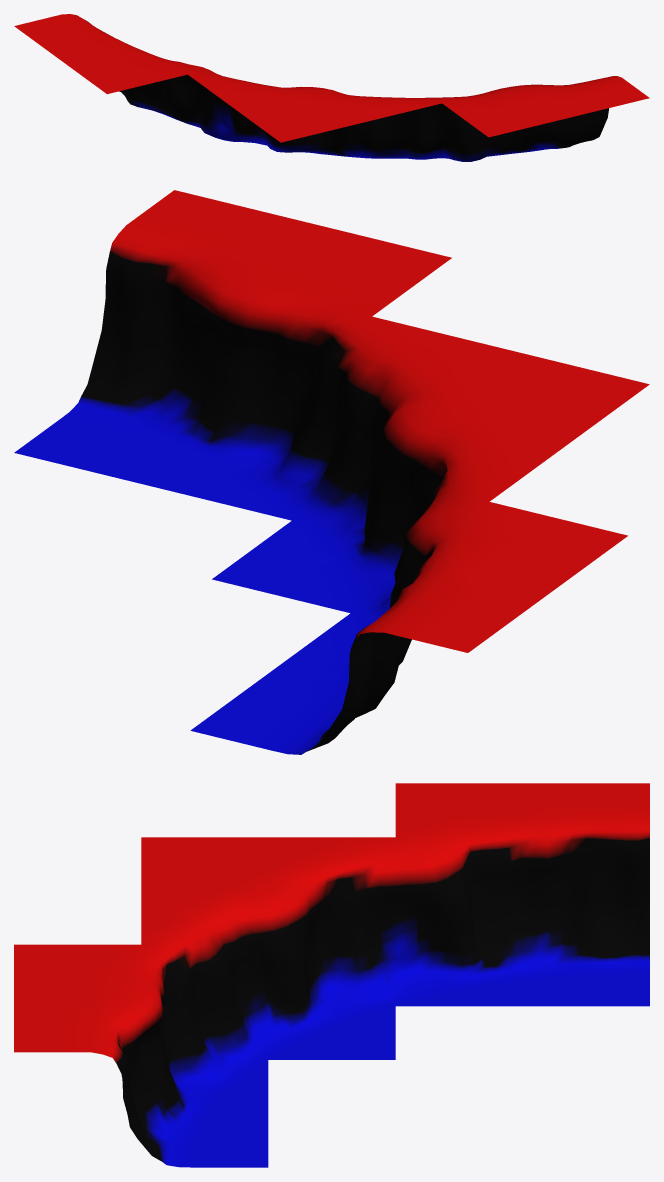
Rendered from RiveCliff05B Foreground.fbx.
3 views of the same model, one above another, from view 1: azimuth 30°, elevation 25°; view 2: azimuth 150°, elevation 25°; view 3: azimuth 270°, elevation 25° (orthographic). The views are drawn at different scales.
Visible parts, largest first — view 1: RiveCliff05B Foreground; view 2: RiveCliff05B Foreground; view 3: RiveCliff05B Foreground.
Boxes of the visible parts, left/top/right/bottom form: RiveCliff05B Foreground: left=14, top=14, right=649, bottom=161; RiveCliff05B Foreground: left=14, top=190, right=649, bottom=754; RiveCliff05B Foreground: left=14, top=783, right=649, bottom=1167.
Bounding box in the file's own units: 5 × 1 × 5.
